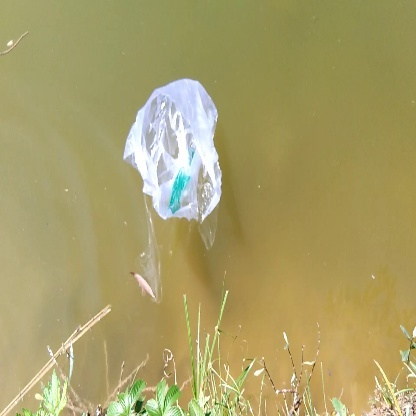plastic-bag: (119, 70, 230, 223)
